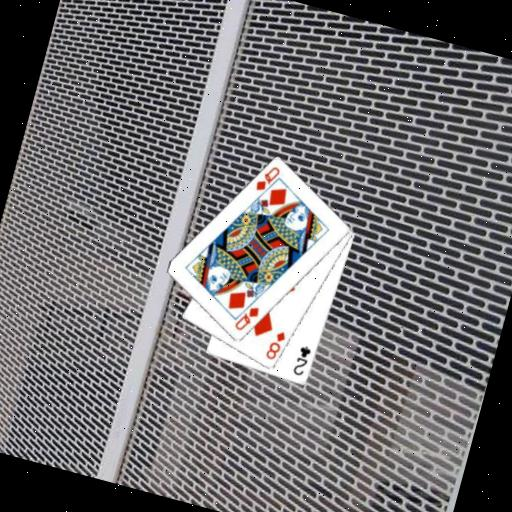2C: (289, 341, 313, 379)
8D: (262, 325, 289, 364)
QD: (251, 159, 283, 197), (230, 299, 262, 336)
